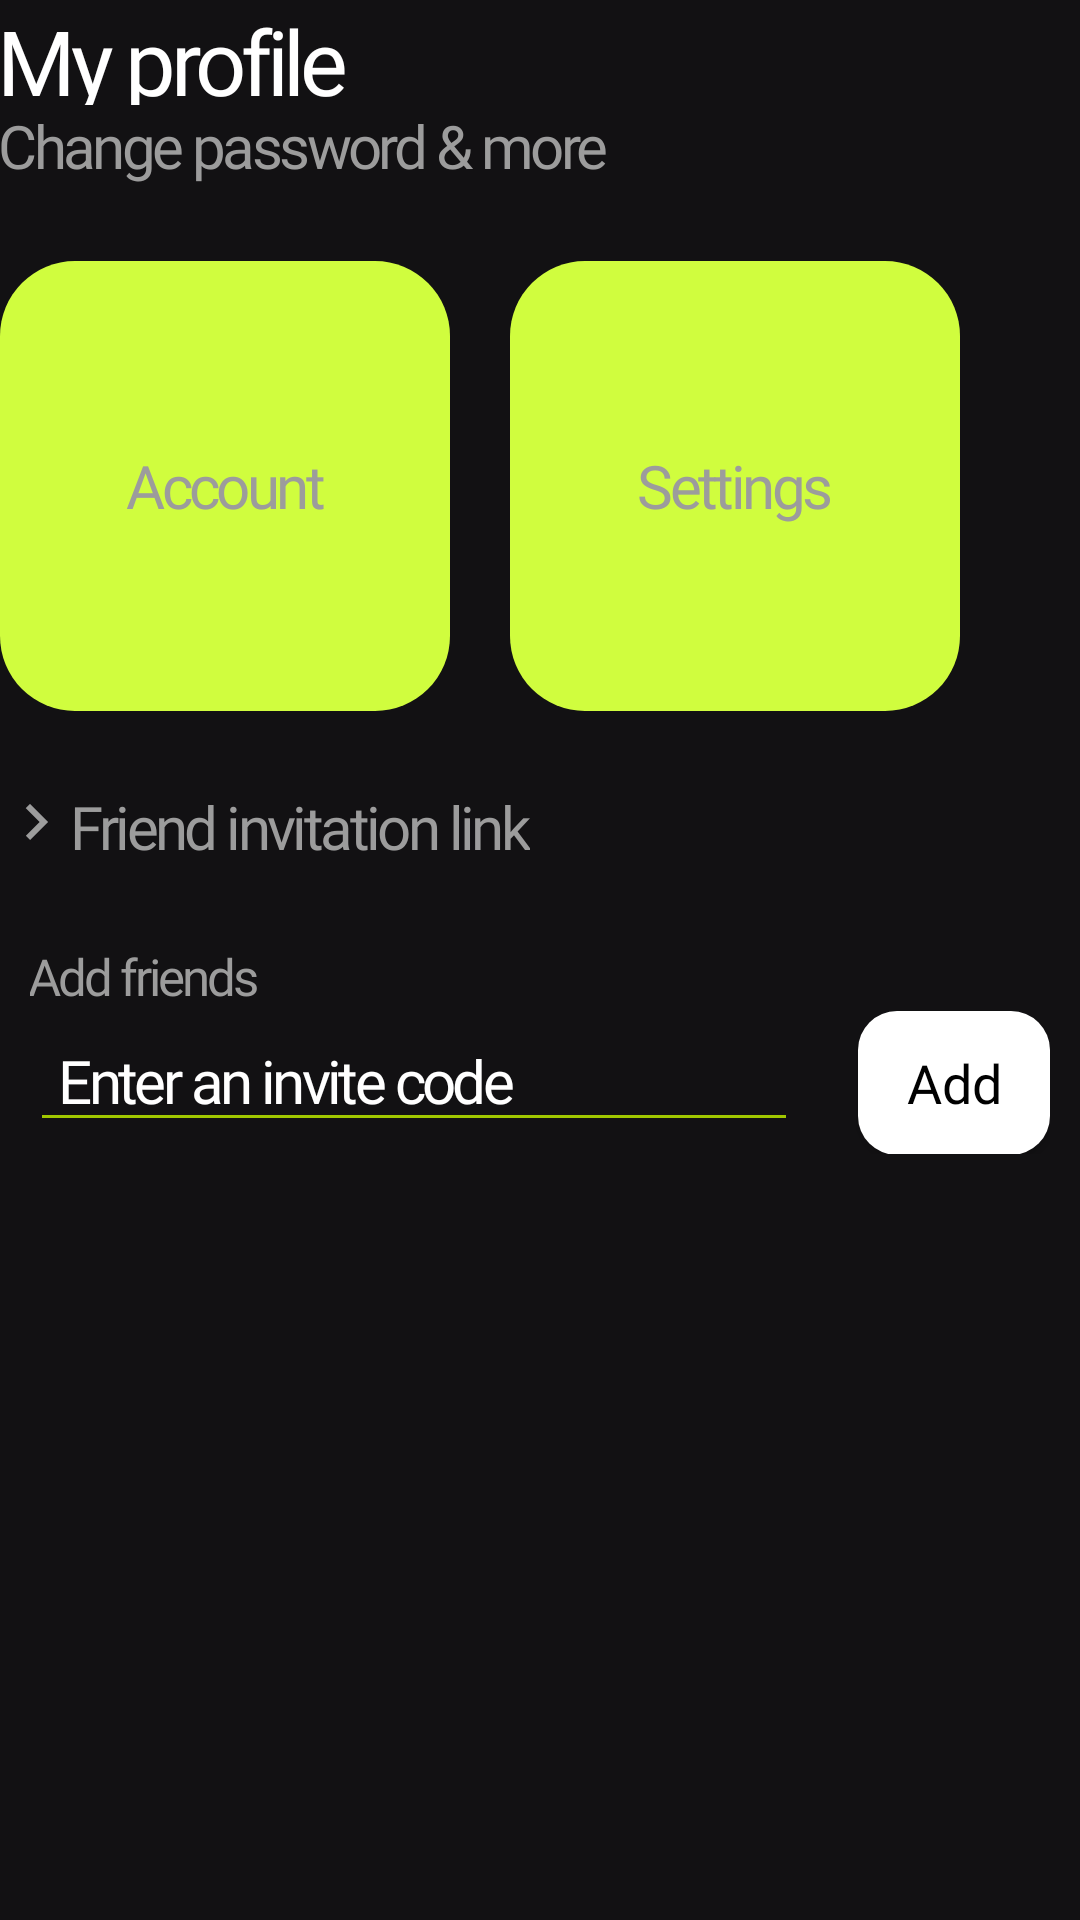

Icon click points for this 1080px x 1920px phone screenshot, format (x=x, y=y):
right arrow: (x=37, y=822)
